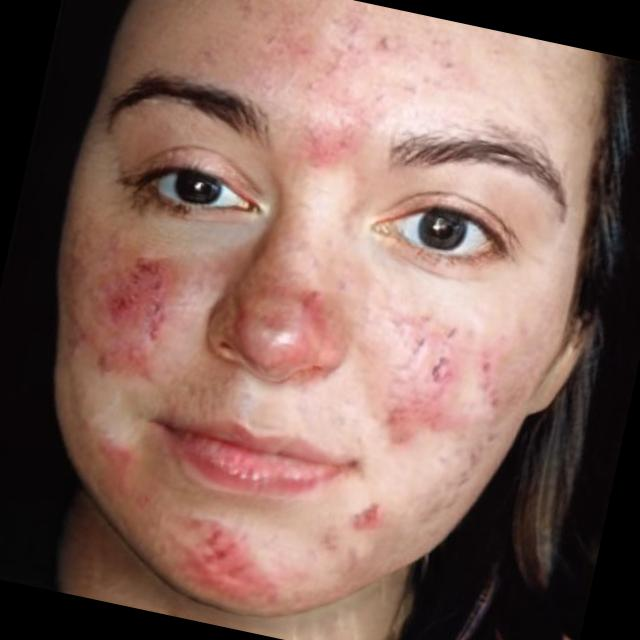redness: (245, 13, 444, 173), (378, 308, 505, 458), (73, 255, 178, 390), (222, 272, 342, 379), (163, 511, 278, 610), (94, 433, 142, 516), (338, 497, 395, 546)
